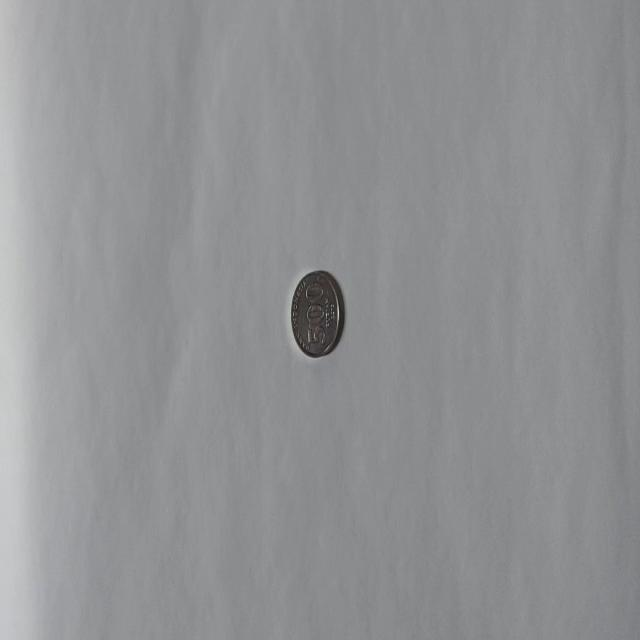lima ratus rupiah: (290, 268, 342, 358)
